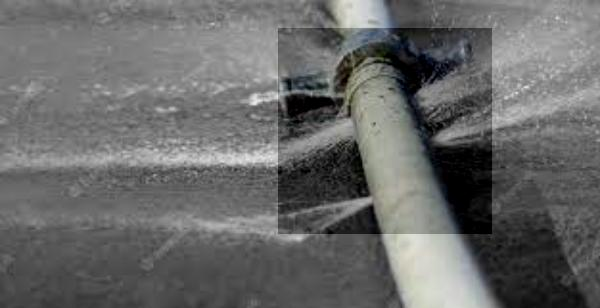water: (278, 28, 492, 234)
